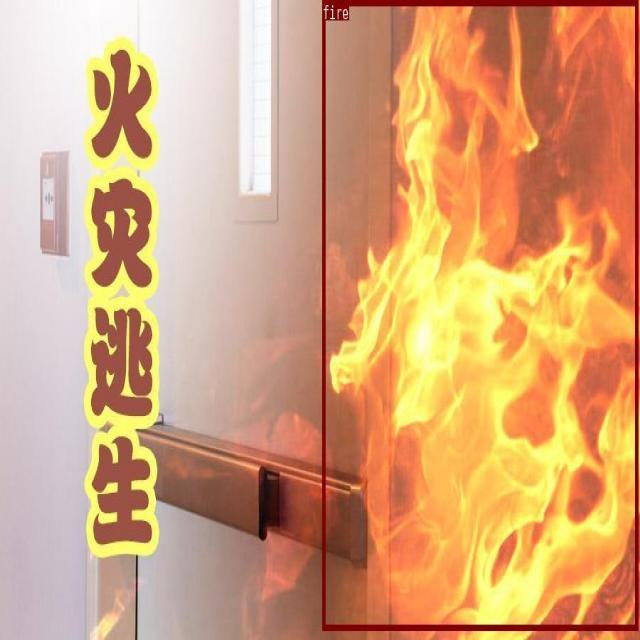fire: (321, 0, 638, 630)
